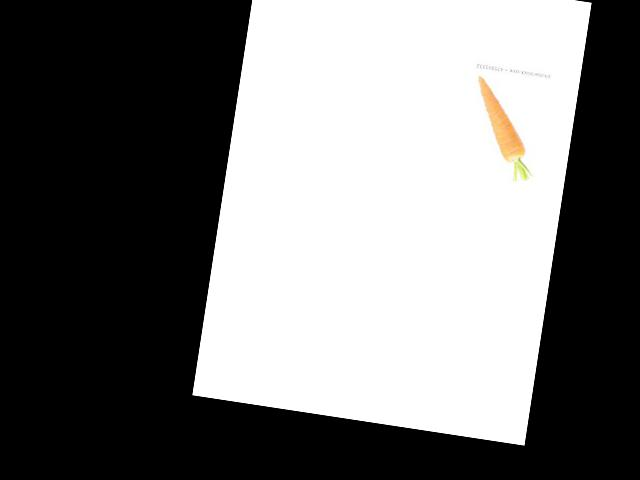carrot: (462, 71, 538, 167)
